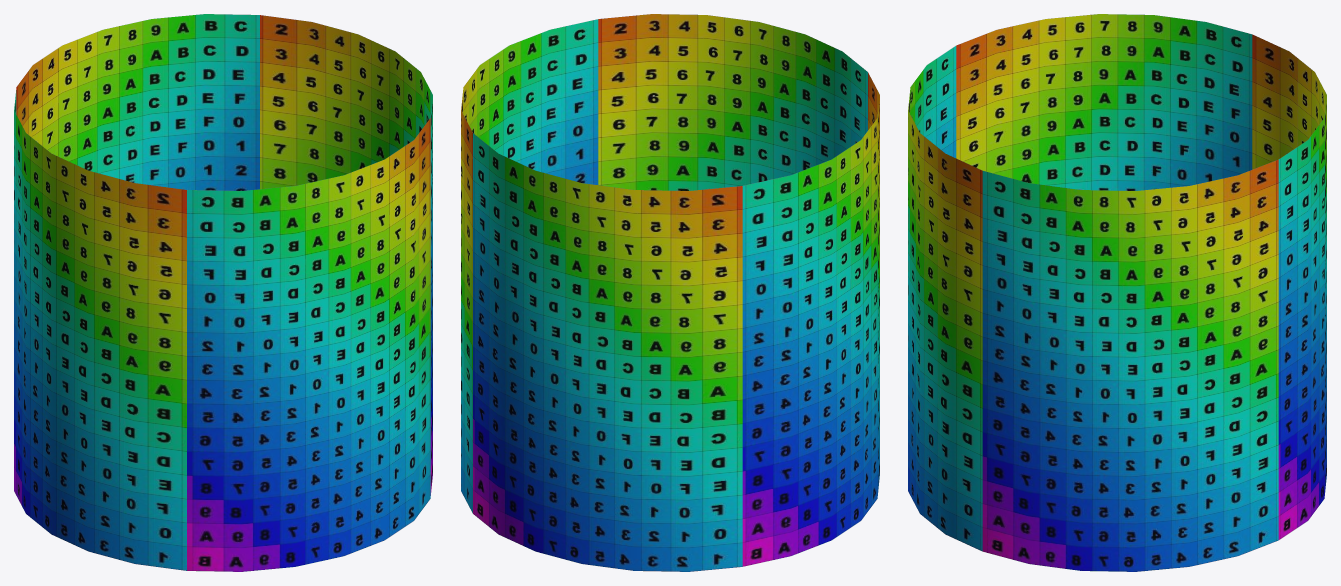
Rendered from Tunnel_straight_scaled.dae.
3 views of the same model, side by side, from view 1: azimuth 30°, elevation 25°; view 2: azimuth 150°, elevation 25°; view 3: azimuth 270°, elevation 25° (orthographic).
Visible parts, largest first — view 1: SketchUp; view 2: SketchUp; view 3: SketchUp.
Boxes of the visible parts, left/top/right/bottom form: SketchUp: left=14, top=14, right=432, bottom=571; SketchUp: left=461, top=14, right=879, bottom=571; SketchUp: left=908, top=14, right=1326, bottom=571.
Bounding box in the file's own units: 0.9961 × 0.9961 × 1.
1 material, 1 textured.
